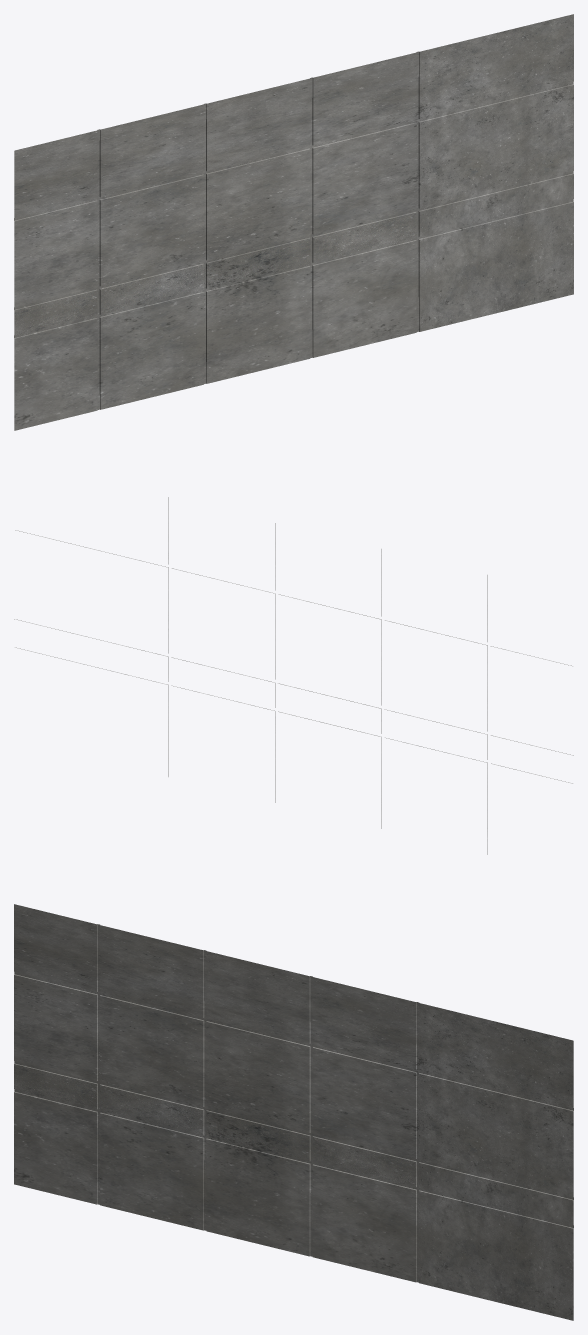
The model's file is PBR - Metallic Roughness.glb.
The picture shows the model from 3 angles, top to bottom: view 1: azimuth 30°, elevation 25°; view 2: azimuth 150°, elevation 25°; view 3: azimuth 330°, elevation 25°; orthographic projection.
Visible parts, largest first — view 1: house_interior:Plane003; view 2: house_interior:Plane003; view 3: house_interior:Plane003.
Boxes of the visible parts, x1,y1,x2,y2 form: house_interior:Plane003: (14,14,573,430); house_interior:Plane003: (14,497,573,854); house_interior:Plane003: (14,904,573,1320).
Size of the model in its own units: 16.8 by 8.04 by 0.0285.
1 material, 1 textured.
